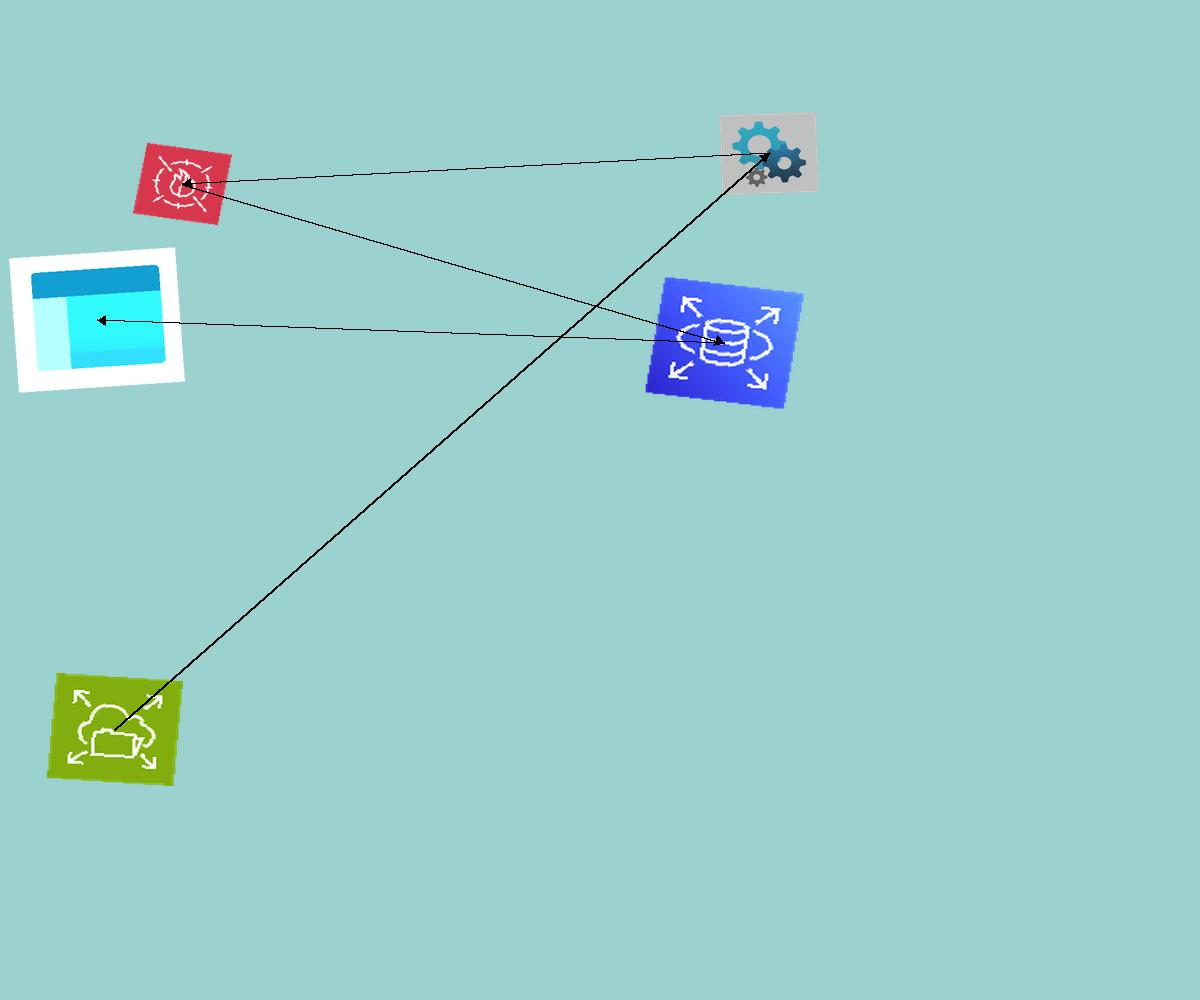AWS-EFS: (47, 673, 183, 786)
AWS-RDS: (644, 276, 805, 410)
AWS-WAF: (132, 142, 233, 226)
Azure_api: (719, 112, 819, 195)
Azure_management-portal: (9, 247, 185, 393)
